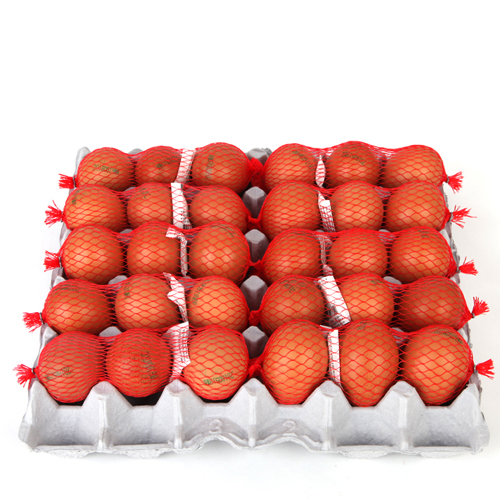egg: (35, 143, 474, 405)
